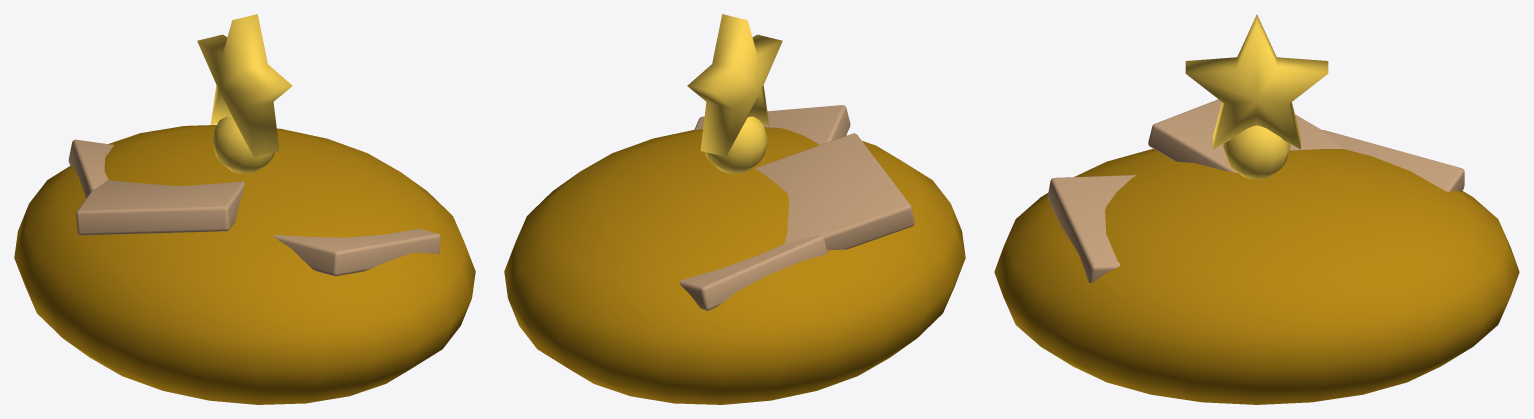
Rendered from SM_JunkPile_Gold.fbx.
3 renders of one model, left to right at view 1: azimuth 30°, elevation 25°; view 2: azimuth 150°, elevation 25°; view 3: azimuth 270°, elevation 25°, orthographic.
Parts seen in each view (by area): view 1: SM_JunkPile_Gold; view 2: SM_JunkPile_Gold; view 3: SM_JunkPile_Gold.
Part boxes in pixels (x1,y1,x2,y2): SM_JunkPile_Gold: [14, 14, 475, 404]; SM_JunkPile_Gold: [504, 14, 965, 404]; SM_JunkPile_Gold: [994, 14, 1519, 404].
Size of what is drawn, in the model's own units: 1.2 by 1.02 by 1.4.
1 material, 1 textured.
